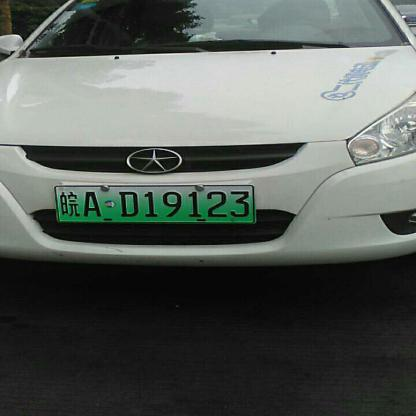lp: (55, 185, 58, 221)
